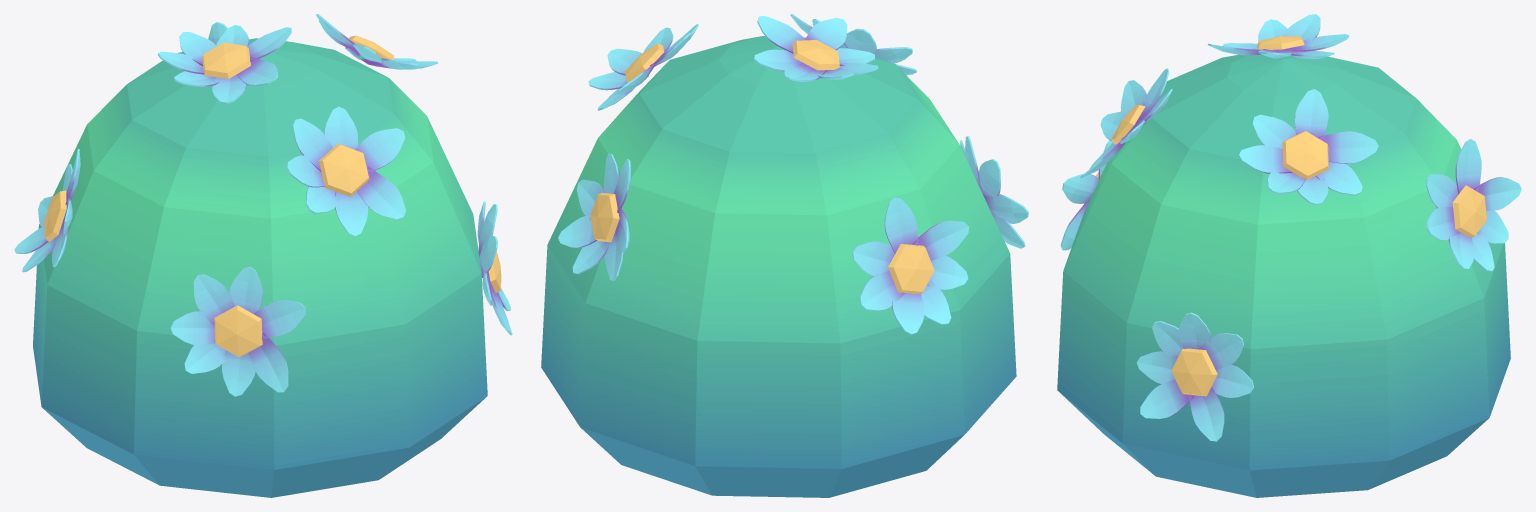
File: flower_bush_red.glb
The picture shows the model from 3 angles, left to right: view 1: azimuth 30°, elevation 25°; view 2: azimuth 150°, elevation 25°; view 3: azimuth 270°, elevation 25°; orthographic projection. The views are drawn at different scales.
Visible parts, largest first — view 1: bush; view 2: bush; view 3: bush.
Part boxes in pixels (x1,y1,x2,y2): bush: (14, 14, 512, 497); bush: (541, 14, 1028, 497); bush: (1057, 14, 1521, 497).
Bounding box in the file's own units: 0.717 × 0.6915 × 0.7037.
Materials: 1 (1 with a texture image).
